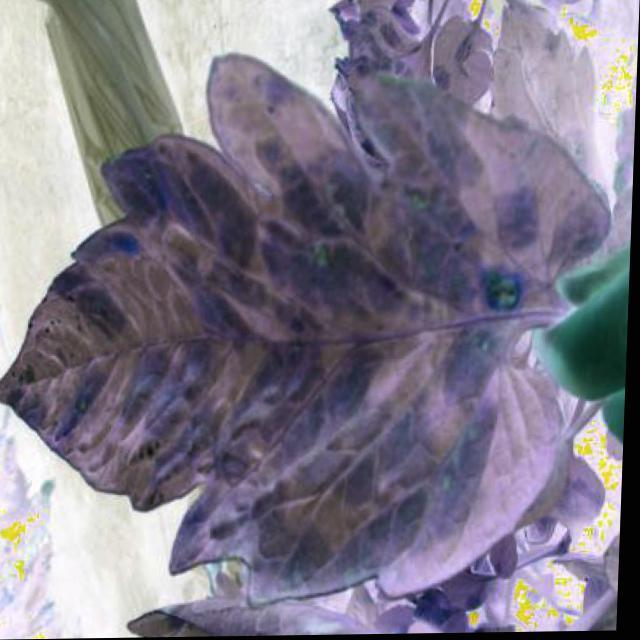Tomato mold leaf: (0, 45, 563, 622)
